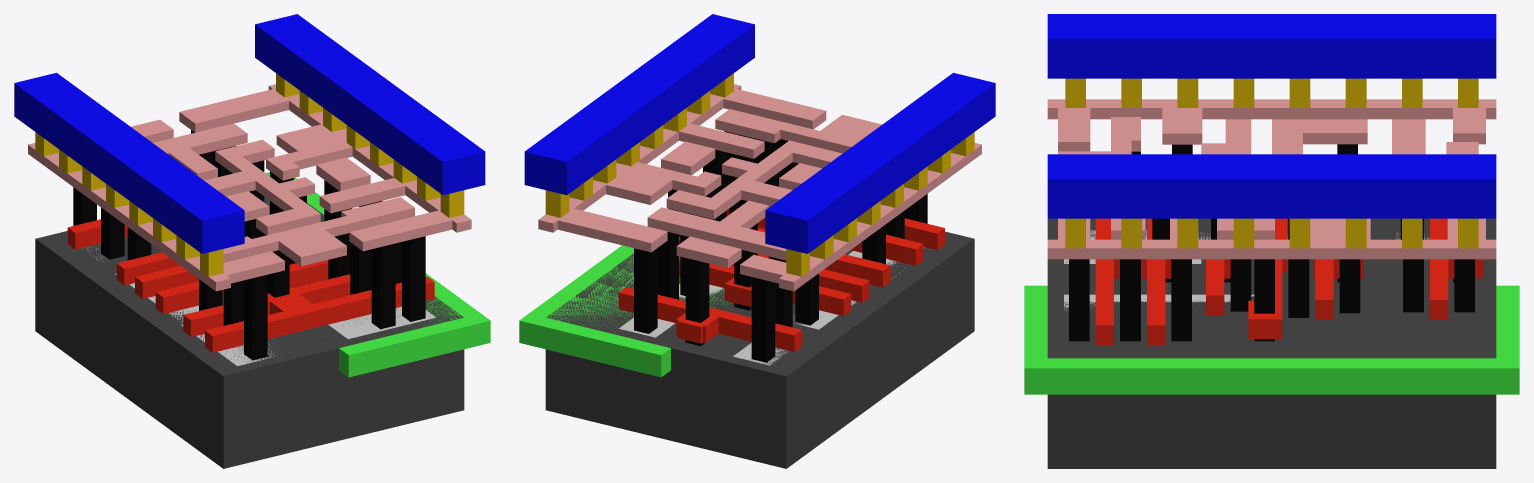
Rendered from sky130_fd_sc_hd__and3b_2.obj.
3 renders of one model, left to right at view 1: azimuth 30°, elevation 25°; view 2: azimuth 150°, elevation 25°; view 3: azimuth 270°, elevation 25°, orthographic. The views are drawn at different scales.
Parts seen in each view (by area): view 1: subs, metal1, li, licon, poly, nwell, mcon, tap, diff; view 2: subs, metal1, li, licon, poly, nwell, mcon, diff, tap; view 3: subs, metal1, li, nwell, licon, mcon, poly.
Boxes of the visible parts, left/top/right/bottom form: subs: left=35, top=196, right=464, bottom=468; metal1: left=14, top=14, right=485, bottom=253; li: left=28, top=84, right=471, bottom=291; licon: left=73, top=130, right=425, bottom=360; poly: left=67, top=219, right=434, bottom=352; nwell: left=265, top=172, right=490, bottom=377; mcon: left=35, top=73, right=464, bottom=276; tap: left=328, top=306, right=435, bottom=338; diff: left=67, top=238, right=284, bottom=365; subs: left=545, top=231, right=974, bottom=468; metal1: left=524, top=14, right=995, bottom=253; li: left=538, top=84, right=981, bottom=291; licon: left=634, top=131, right=927, bottom=362; poly: left=618, top=206, right=944, bottom=351; nwell: left=519, top=245, right=731, bottom=377; mcon: left=545, top=73, right=974, bottom=276; diff: left=733, top=247, right=931, bottom=365; tap: left=619, top=284, right=722, bottom=337; subs: left=1047, top=218, right=1496, bottom=468; metal1: left=1047, top=14, right=1496, bottom=218; li: left=1047, top=99, right=1496, bottom=259; nwell: left=1024, top=285, right=1519, bottom=394; licon: left=1069, top=144, right=1474, bottom=341; mcon: left=1065, top=78, right=1478, bottom=248; poly: left=1095, top=218, right=1483, bottom=345.
Size of the model in its own units: 3.2 by 2.74 by 4.06.
